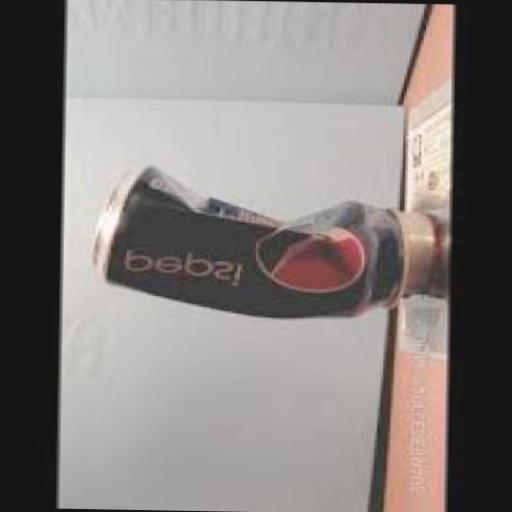metal: (86, 159, 440, 320)
